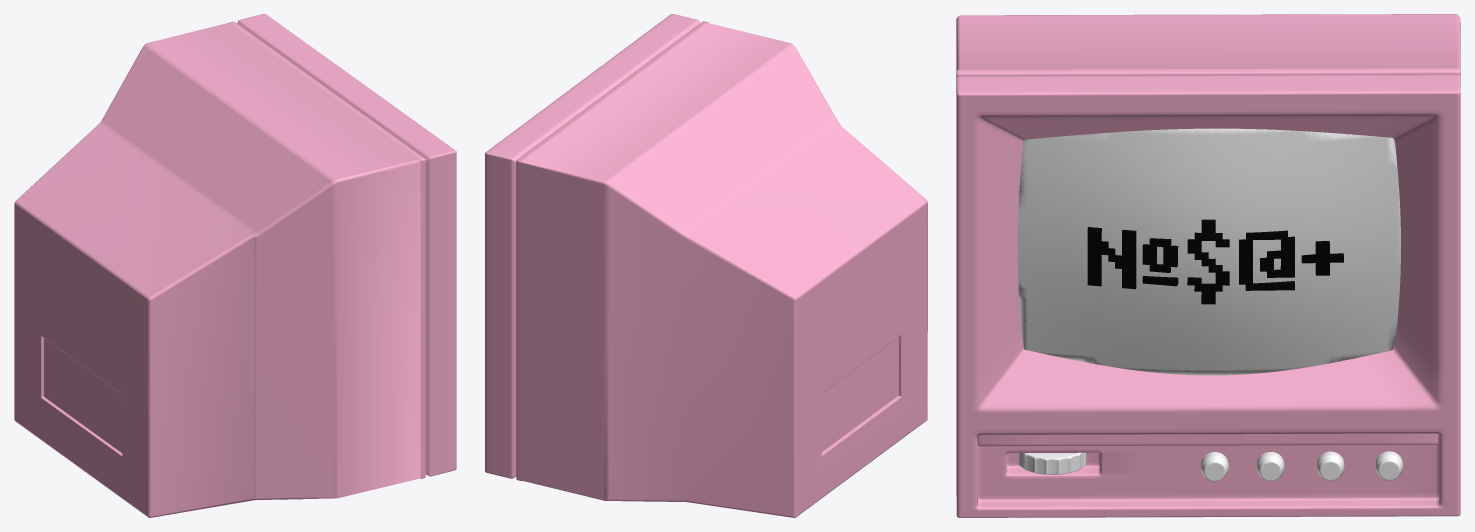
3 views of the same model, side by side, from view 1: azimuth 30°, elevation 25°; view 2: azimuth 150°, elevation 25°; view 3: azimuth 270°, elevation 25° (orthographic). The views are drawn at different scales.
Visible parts, largest first — view 1: TV, Crt tv 02-Freepoly.org; view 2: TV, Crt tv 02-Freepoly.org; view 3: Crt tv 02-Freepoly.org, TV, Curve.003, Curve.001, Curve.002, Curve.
Part boxes in pixels (bbox=[...]): TV: bbox=[14, 23, 420, 517]; Crt tv 02-Freepoly.org: bbox=[229, 14, 456, 478]; TV: bbox=[518, 23, 927, 517]; Crt tv 02-Freepoly.org: bbox=[485, 14, 708, 481]; Crt tv 02-Freepoly.org: bbox=[956, 68, 1460, 517]; TV: bbox=[956, 14, 1460, 85]; Curve.003: bbox=[1087, 227, 1178, 289]; Curve.001: bbox=[1239, 230, 1294, 290]; Curve.002: bbox=[1187, 219, 1229, 304]; Curve: bbox=[1301, 241, 1343, 275].
Size of the model in its own units: 1.12 by 1.2 by 1.29.
